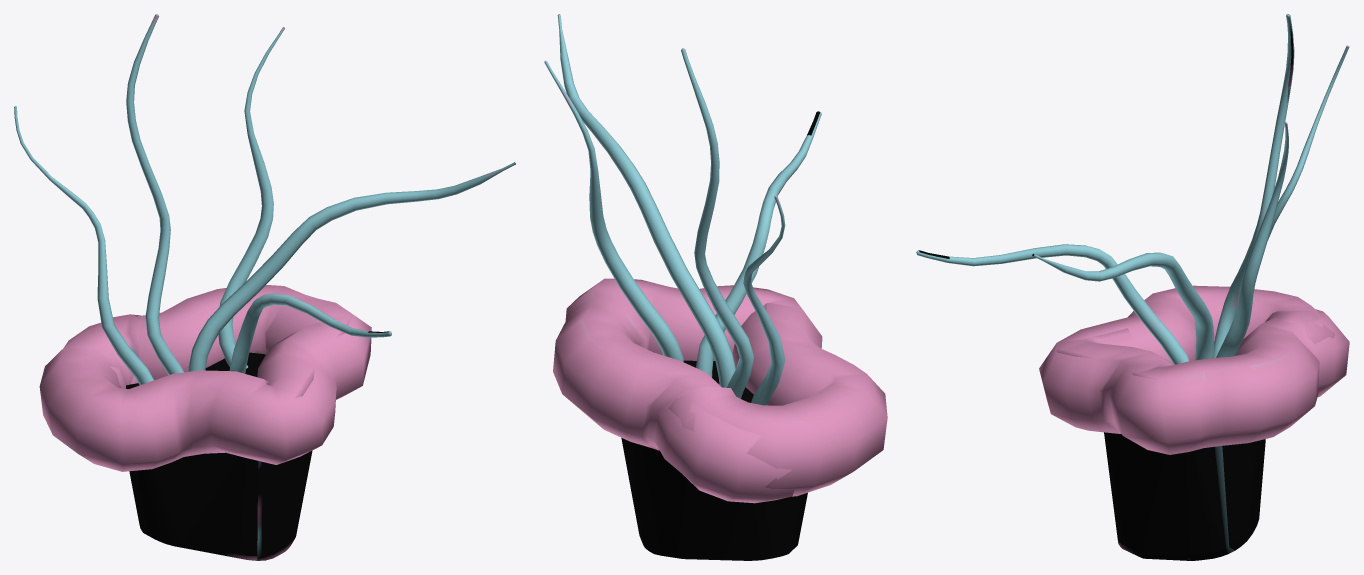
Rendered from coral3.fbx.
The picture shows the model from 3 angles, left to right: view 1: azimuth 30°, elevation 25°; view 2: azimuth 150°, elevation 25°; view 3: azimuth 270°, elevation 25°; orthographic projection. The views are drawn at different scales.
Parts seen in each view (by area): view 1: Object_4.002; view 2: Object_4.002; view 3: Object_4.002.
Part boxes in pixels (box(x1,y1,x2,y2)): Object_4.002: box(14, 14, 515, 560); Object_4.002: box(544, 14, 887, 560); Object_4.002: box(916, 14, 1349, 560).
Size of the model in its own units: 8.39 by 10.72 by 8.21.
3 materials, 3 textured.
